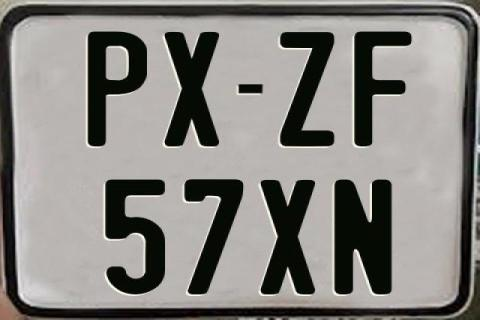0: (105, 177, 170, 293), (182, 180, 243, 298)
F: (352, 30, 413, 146)
N: (334, 178, 396, 294)
P: (87, 31, 146, 147)
X: (261, 178, 321, 294), (163, 32, 218, 146)
Z: (281, 30, 338, 148)
